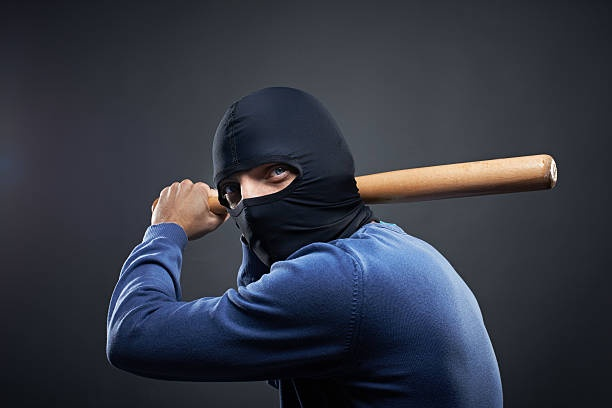bita: (360, 155, 563, 210)
